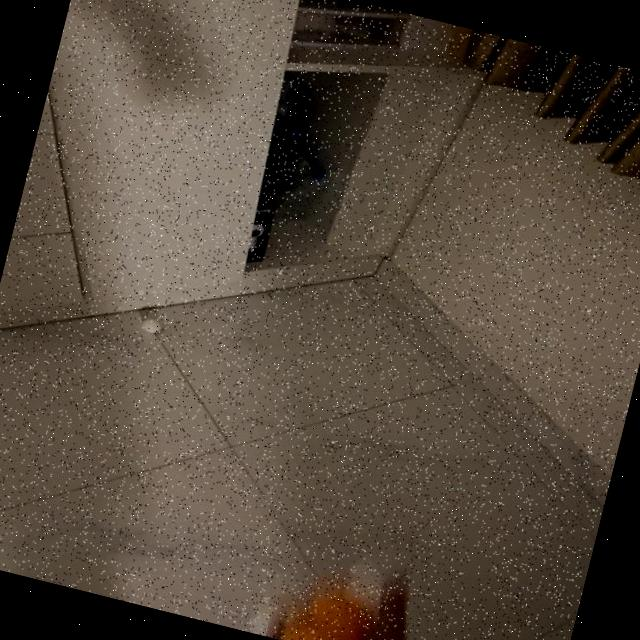ping-pong-ball: (140, 314, 164, 336)
